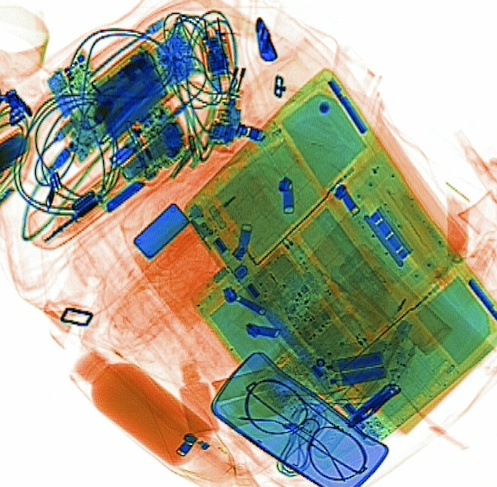powerbank: (86, 26, 197, 143)
